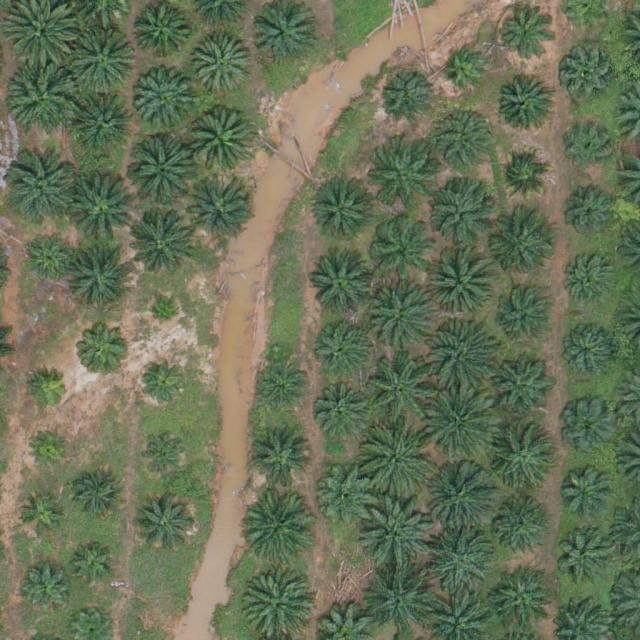Healthy: (242, 567, 313, 638), (427, 245, 498, 316), (125, 136, 196, 207), (426, 525, 496, 596), (360, 500, 430, 571), (245, 490, 315, 561), (488, 210, 558, 281), (489, 429, 559, 500), (431, 460, 501, 531), (428, 319, 498, 390), (368, 354, 438, 425), (365, 426, 435, 497), (186, 106, 256, 177), (124, 209, 194, 280), (66, 173, 136, 244), (68, 23, 138, 94), (8, 154, 78, 225), (367, 562, 437, 632), (428, 389, 498, 459), (428, 174, 498, 244), (364, 283, 434, 353), (184, 174, 254, 244), (10, 62, 80, 132), (69, 242, 139, 312), (557, 397, 620, 460), (250, 4, 313, 67), (192, 35, 255, 98), (490, 574, 553, 636), (133, 494, 195, 557), (490, 359, 552, 422), (366, 147, 428, 210), (370, 217, 432, 280), (315, 465, 378, 527), (311, 313, 373, 376), (311, 256, 373, 319), (315, 177, 377, 240), (250, 426, 312, 489), (133, 68, 195, 131), (558, 321, 620, 383), (433, 106, 495, 168), (313, 377, 375, 439), (75, 92, 137, 154), (139, 427, 194, 483), (556, 529, 611, 584), (492, 501, 547, 556), (19, 560, 74, 615), (23, 233, 78, 288), (558, 465, 613, 520), (560, 46, 615, 101), (562, 119, 617, 174), (563, 189, 618, 244), (563, 255, 618, 310), (499, 9, 554, 64), (137, 354, 192, 409), (380, 69, 435, 124), (254, 356, 309, 411), (76, 319, 131, 374), (73, 468, 128, 523), (497, 75, 551, 130), (497, 149, 551, 204), (495, 287, 549, 342)
Small: (26, 367, 73, 414), (17, 492, 64, 539), (72, 544, 119, 591), (444, 48, 491, 95), (26, 427, 73, 474), (150, 301, 181, 332)
